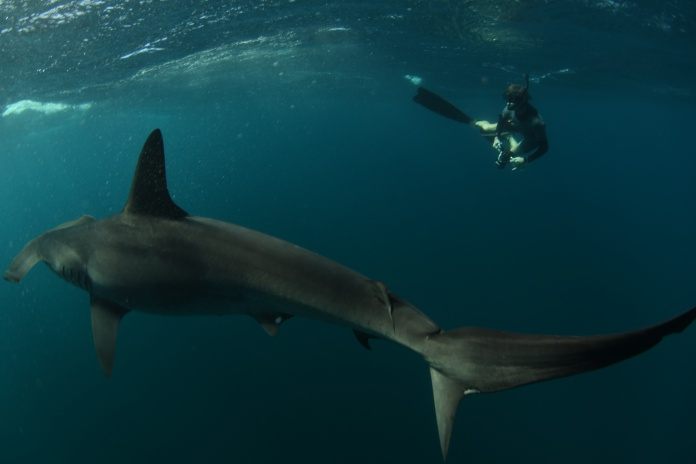Hammer: (3, 133, 696, 459)
